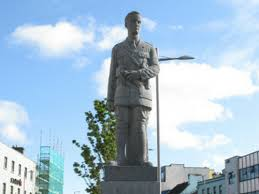person-like: (104, 9, 162, 164)
